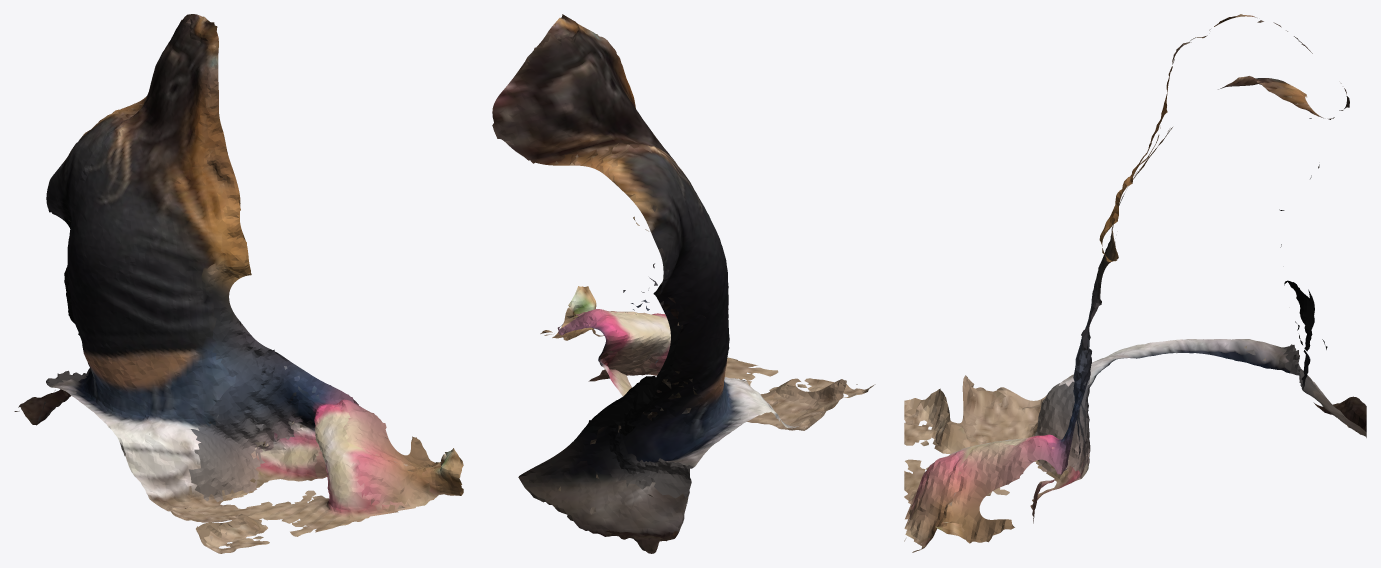
The picture shows the model from 3 angles, left to right: view 1: azimuth 30°, elevation 25°; view 2: azimuth 150°, elevation 25°; view 3: azimuth 270°, elevation 25°; orthographic projection. The views are drawn at different scales.
Size of the model in its own units: 0.5525 by 0.8411 by 0.7412.
1 material, 1 textured.
